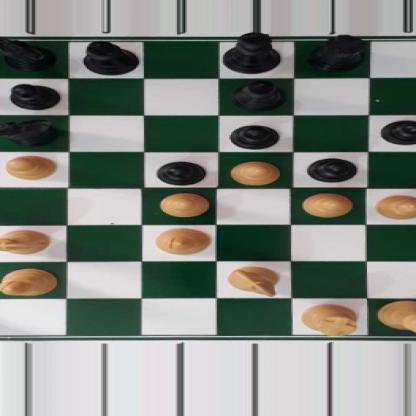black-bishop: (81, 39, 139, 75), (233, 79, 285, 111)
black-king: (223, 32, 280, 75)
black-knight: (0, 35, 55, 69), (0, 118, 59, 146)
black-pawn: (6, 82, 63, 110), (228, 124, 282, 149), (307, 156, 357, 182), (157, 161, 207, 185), (380, 118, 416, 145)
black-rook: (307, 35, 367, 71)
white-bishop: (0, 266, 57, 298), (155, 228, 210, 255)
white-king: (376, 299, 416, 336)
white-knight: (226, 265, 283, 296), (0, 229, 52, 255)
white-pawn: (5, 155, 59, 181), (226, 161, 283, 185), (302, 192, 354, 218), (160, 192, 210, 218), (373, 193, 416, 220)
white-rook: (301, 304, 361, 335)
